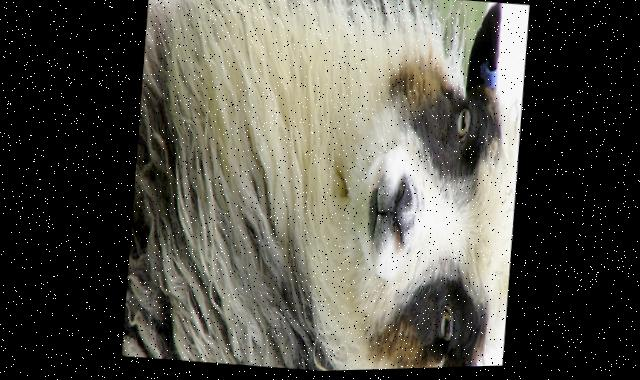sheep: (111, 0, 538, 377)
